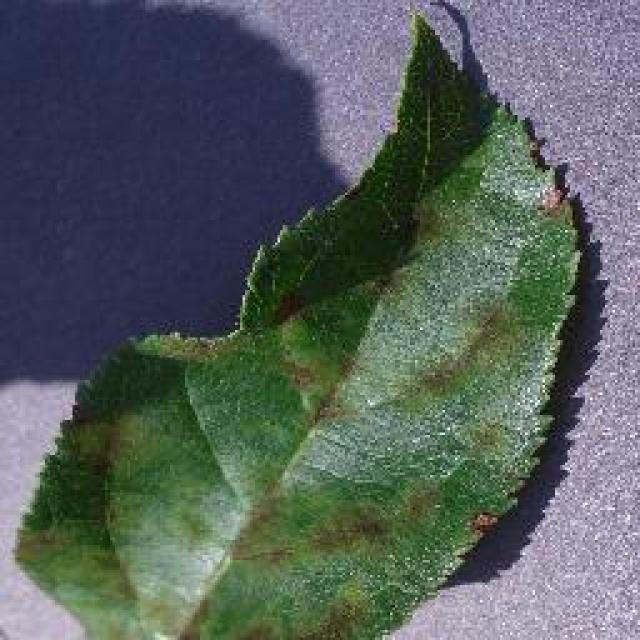apple scab disease: (13, 2, 585, 638)
